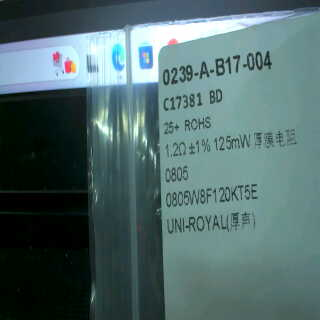1.2R: (163, 139, 189, 190)
